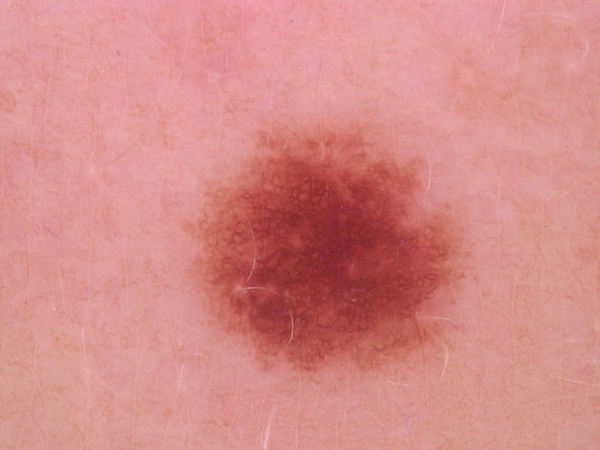Detected Lesion: (188, 118, 470, 387)
